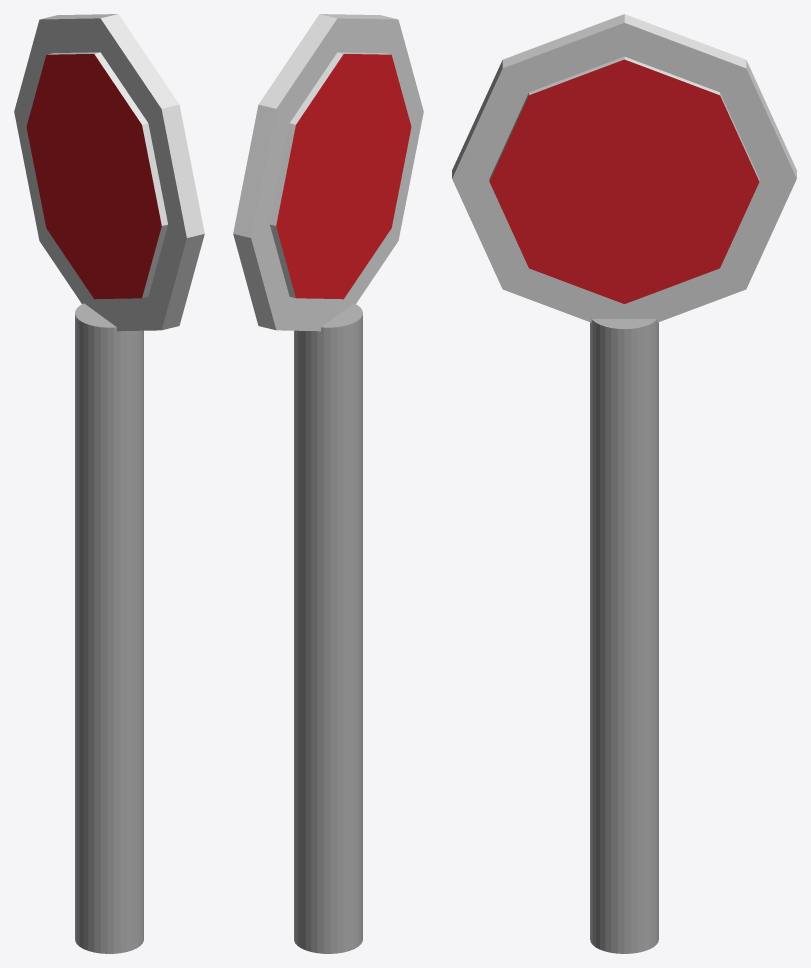
File: stopsign.fbx
3 views of the same model, side by side, from view 1: azimuth 30°, elevation 25°; view 2: azimuth 150°, elevation 25°; view 3: azimuth 270°, elevation 25° (orthographic).
Parts seen in each view (by area): view 1: Cylinder.001; view 2: Cylinder.001; view 3: Cylinder.001.
Part boxes in pixels (<box>): Cylinder.001: <box>14,14,204,953</box>; Cylinder.001: <box>233,14,423,953</box>; Cylinder.001: <box>452,14,796,953</box>.
Bounding box in the file's own units: 10 × 147 × 50.
